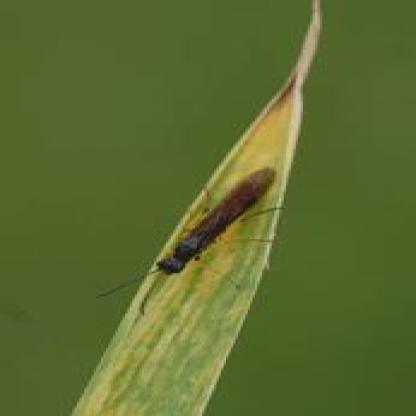sawfly: (100, 162, 280, 326)
